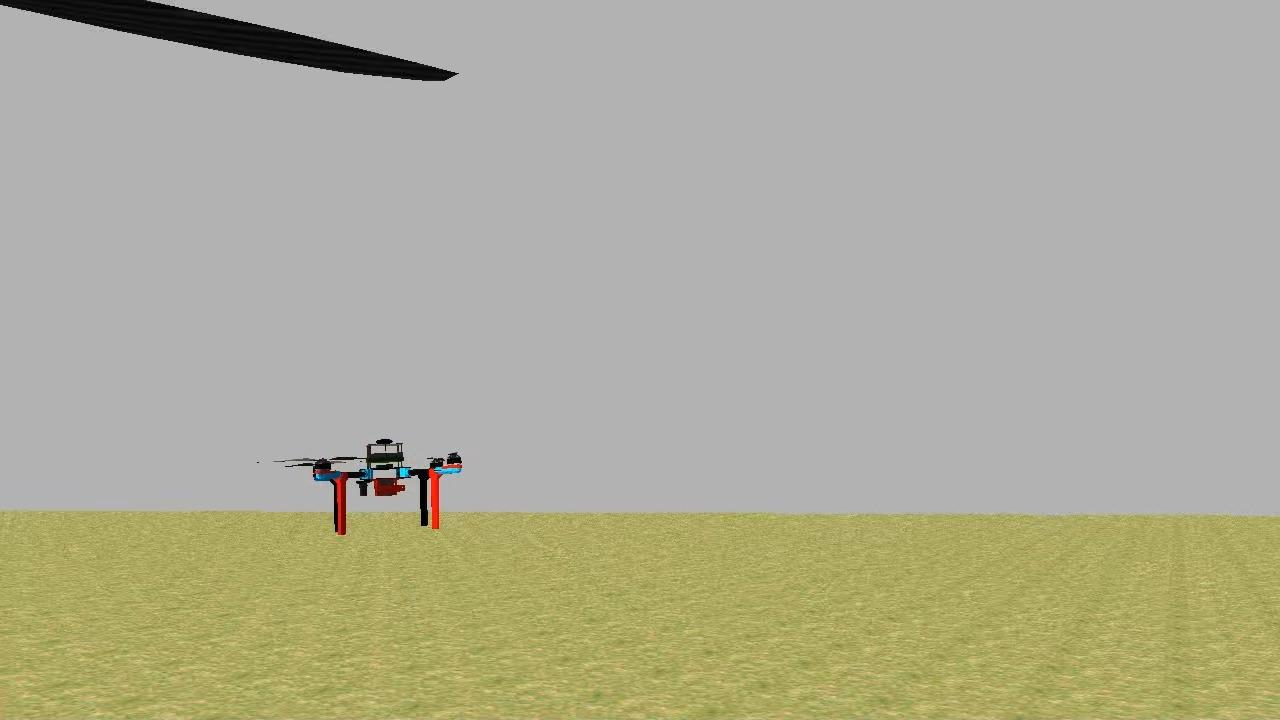UAV: (300, 436, 470, 534)
